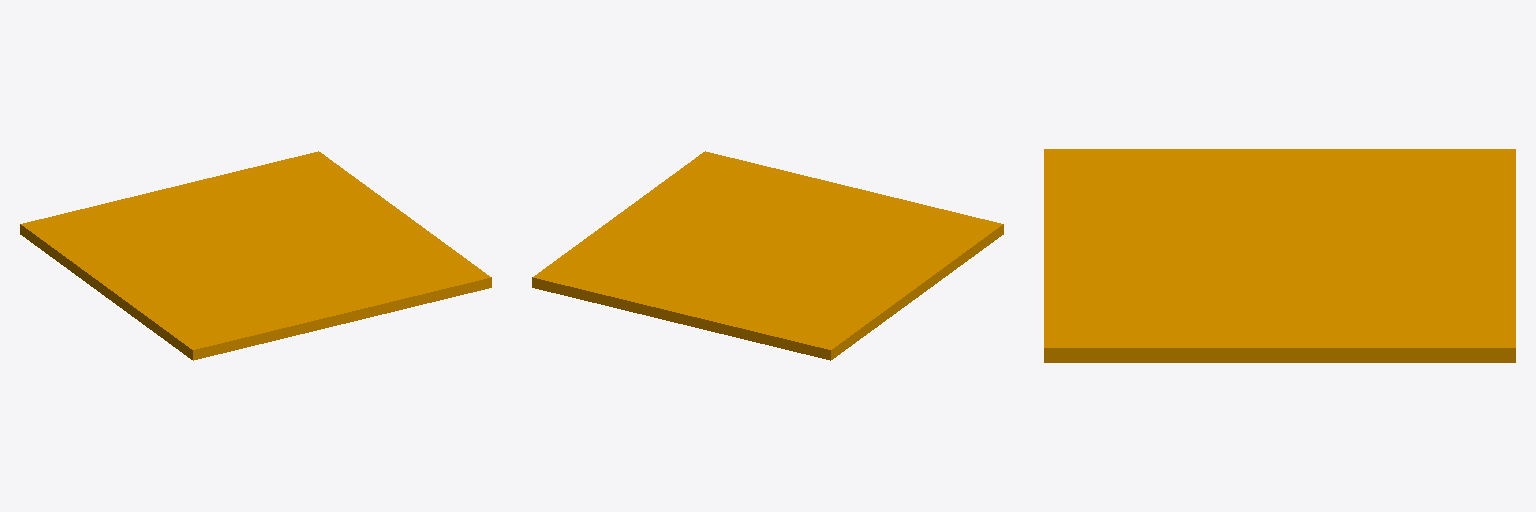
The robot description file, URDF, robot "plate":
<?xml version="1.0" encoding="utf-8"?>
<!-- This URDF was automatically created by SolidWorks to URDF Exporter! Originally created by [author] ([email redacted]) 
     Commit Version: 1.6.0-4-g7f85cfe  Build Version: 1.6.7995.38578
     For more information, please see http://wiki.ros.org/sw_urdf_exporter -->
<robot
        name="plate">
    <link name="base">
        <collision>
            <origin rpy="0 0 0" xyz="0 0 0"/>
            <geometry>
                <box size="0.3 0.3 0.01"/>
            </geometry>
        </collision>
        <visual>
            <origin rpy="0 0 0" xyz="0 0 0"/>
            <geometry>
                <box size="0.3 0.3 0.01"/>
            </geometry>
        </visual>
    </link>
</robot>

--- What the picture shows (computed from the rendered views, not written in the file) ---
Views: 3 orthographic renders of the robot side by side, from view 1: azimuth 30°, elevation 25°; view 2: azimuth 150°, elevation 25°; view 3: azimuth 270°, elevation 25°.
Model plate with 1 links and 0 joints (none), rooted at base, posed all joints at 0.
Links seen in each view (by area): view 1: base; view 2: base; view 3: base.
Boxes of the visible links, bbox=[...] form: base: bbox=[20, 151, 491, 360]; base: bbox=[532, 151, 1003, 360]; base: bbox=[1044, 149, 1515, 362].
Size in the robot's own frame: 0.3 by 0.3 by 0.01 metres.
Geometry: primitives only (box / cylinder / sphere), no mesh files.